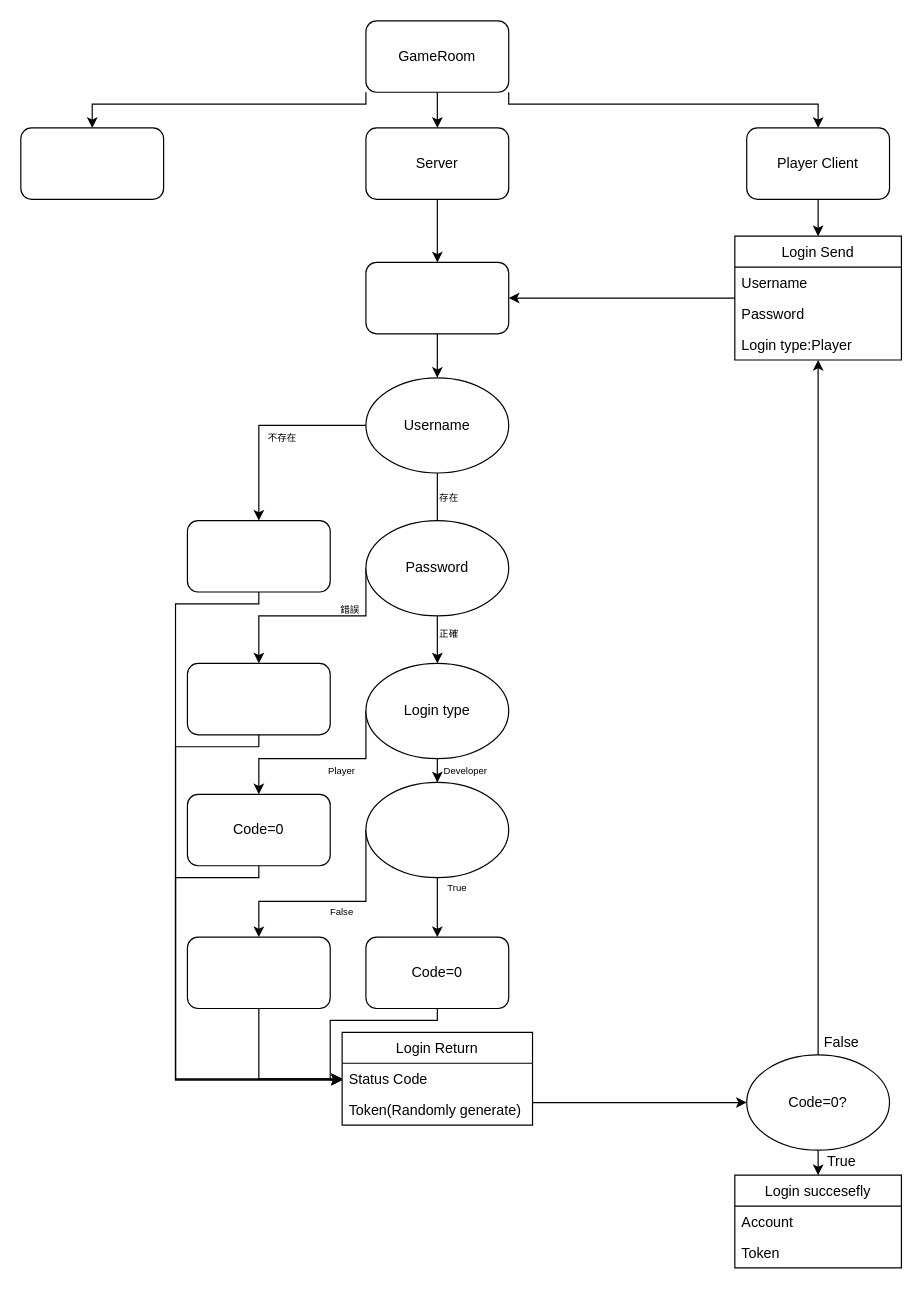
This 922x1292 diagram has some shape labels left out. The centre of each missing label's shape, as x and y in pixels:
"Account have developer permission?" belongs at point (437, 829).
"Code=1" belongs at point (258, 555).
"Code=2" belongs at point (258, 698).
"Code=3" belongs at point (258, 972).
"Developer Client" belongs at point (92, 163).
"判斷登入情形" belongs at point (437, 297).
